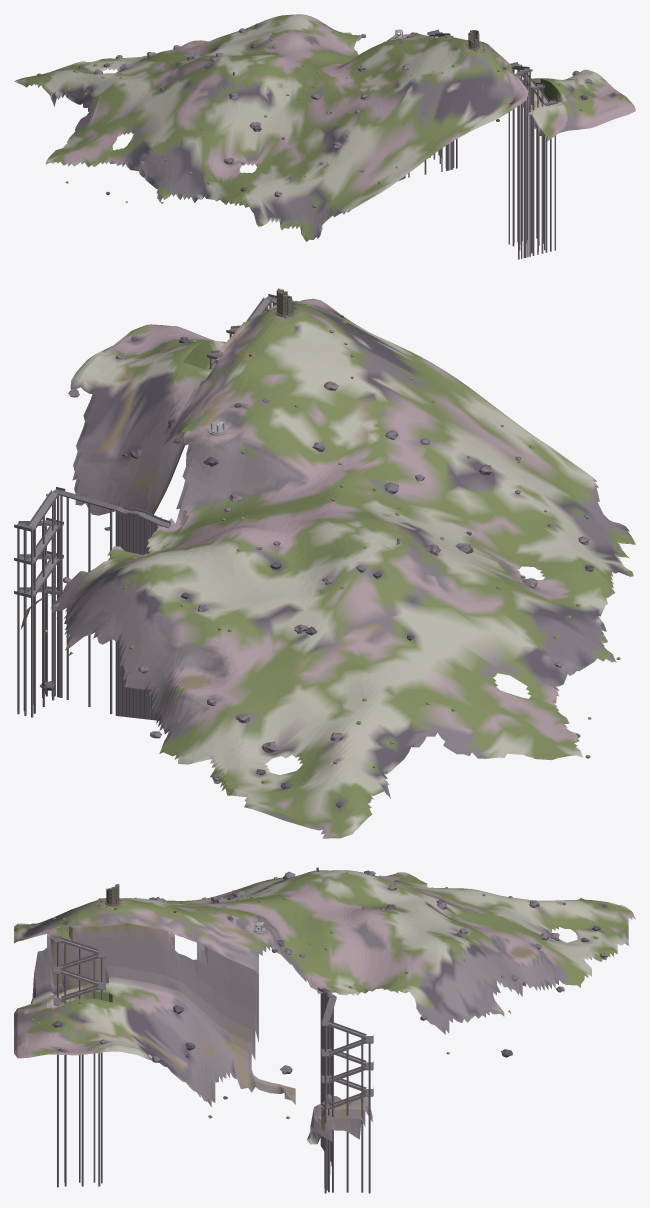
The model's file is coast_isl_saltglass_lod1.glb.
3 views of the same model, one above another, from view 1: azimuth 30°, elevation 25°; view 2: azimuth 150°, elevation 25°; view 3: azimuth 270°, elevation 25° (orthographic). The views are drawn at different scales.
Parts seen in each view (by area): view 1: geometry_0; view 2: geometry_0; view 3: geometry_0.
Part boxes in pixels (x1=…): geometry_0: x1=14, y1=14, x2=635, y2=259; geometry_0: x1=14, y1=288, x2=635, y2=838; geometry_0: x1=14, y1=867, x2=635, y2=1193.
Bounding box in the file's own units: 340 × 161 × 340.
